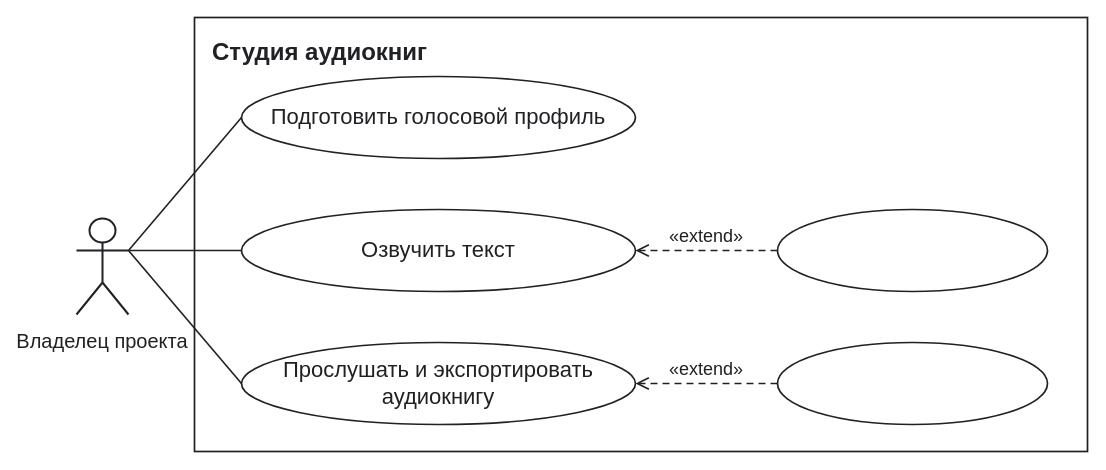
Image size: 1106x470. Some labels were removed from this diagram. The centre of each missing label's shape, as x and y in pixels:
"Повторно озвучить фрагмент" belongs at [912,383].
"Приостановить синтез" belongs at [912,250].
